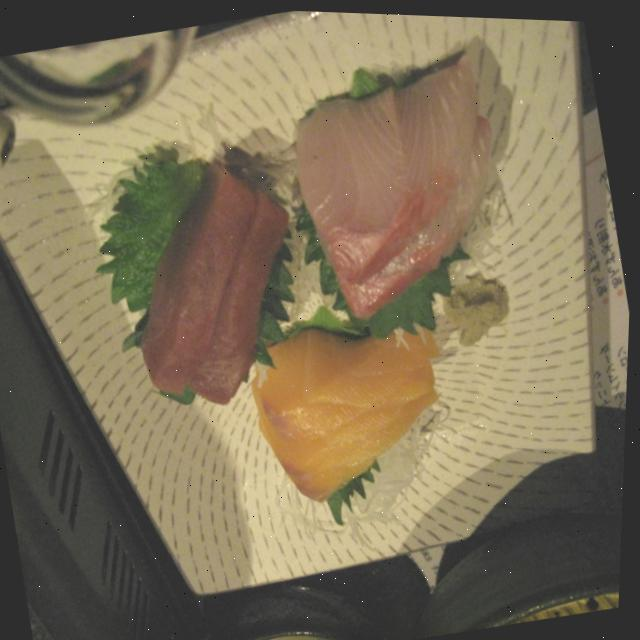刺身生食: (64, 2, 602, 575)
